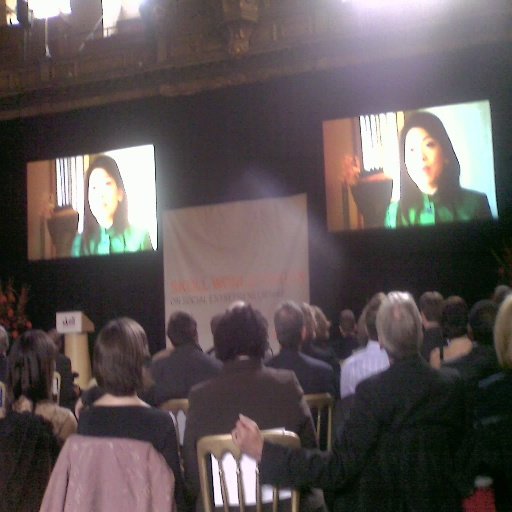hand: (228, 414, 264, 458), (73, 397, 86, 422)
